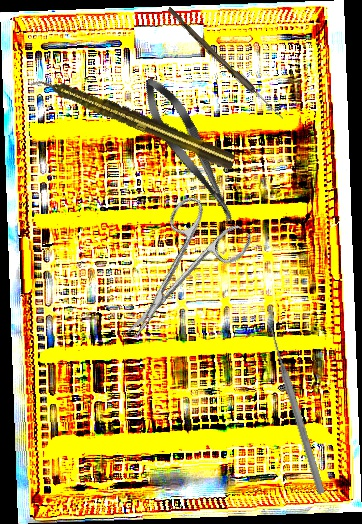Handpiece: (30, 68, 238, 173)
Iris Scissors: (96, 188, 256, 359)
Micro Scissor: (133, 70, 247, 232)
Pusher: (265, 326, 328, 495)
Surgical Spoon: (164, 6, 287, 122)
